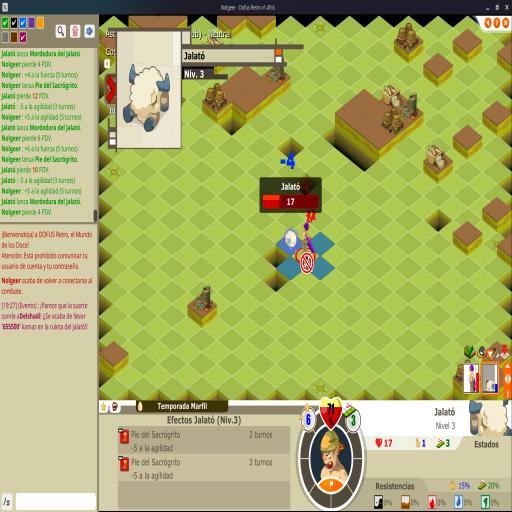Enemigos: (284, 230, 298, 250)
Personaje: (300, 222, 316, 258)
